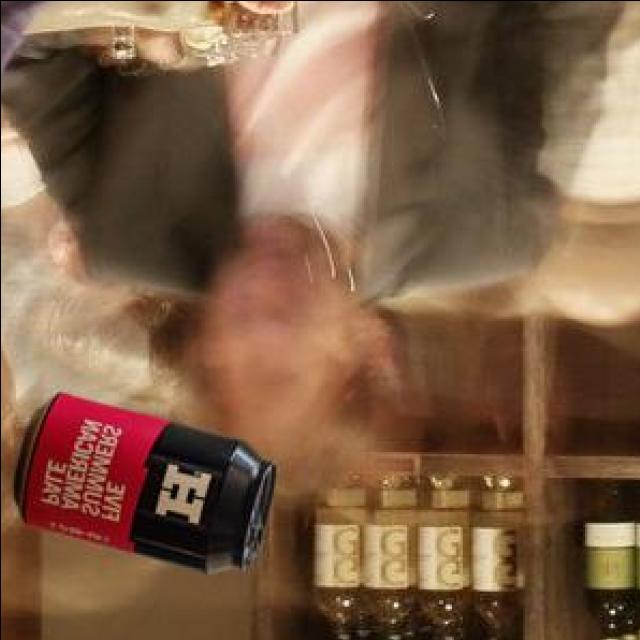logam: (10, 396, 272, 577)
